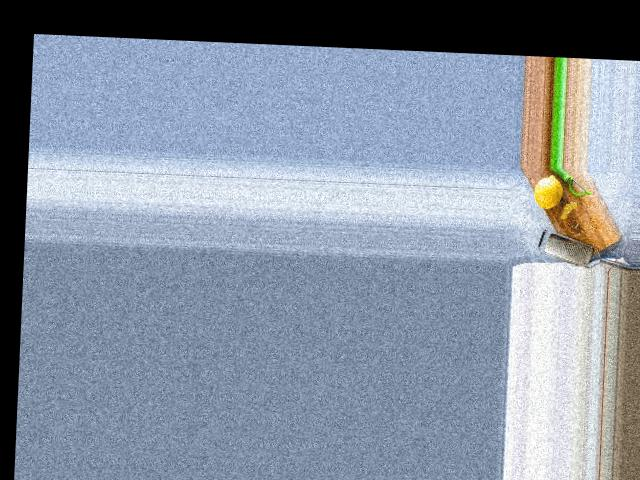lemon: (532, 174, 564, 209)
